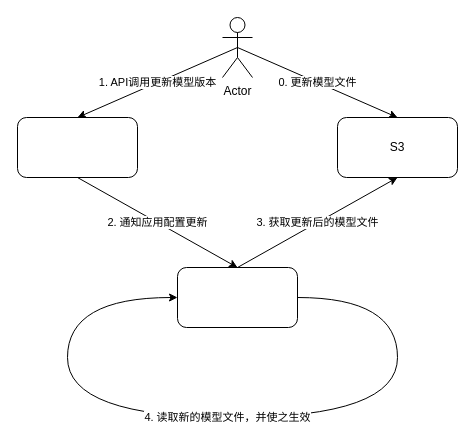
This 475x441 diagram has some shape labels left out. Each missing label, with the centre of its shape:
Business Application: [237,297]
nacos: [77,147]
